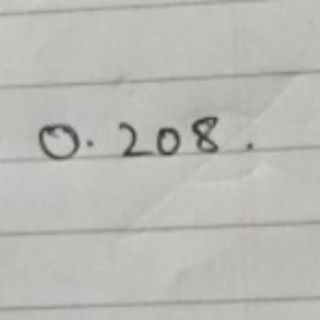.: (83, 135, 96, 149)
0: (34, 119, 82, 162), (154, 124, 181, 158)
2: (116, 114, 154, 160)
8: (189, 115, 225, 155)
